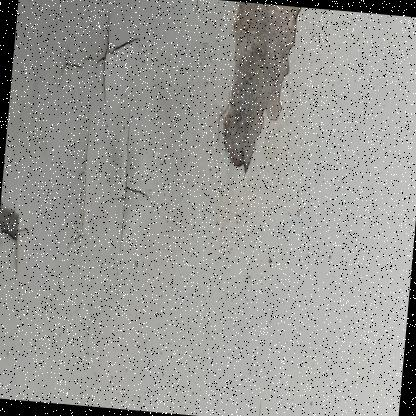Crack: (30, 0, 174, 270), (164, 0, 310, 213), (0, 49, 42, 292)
